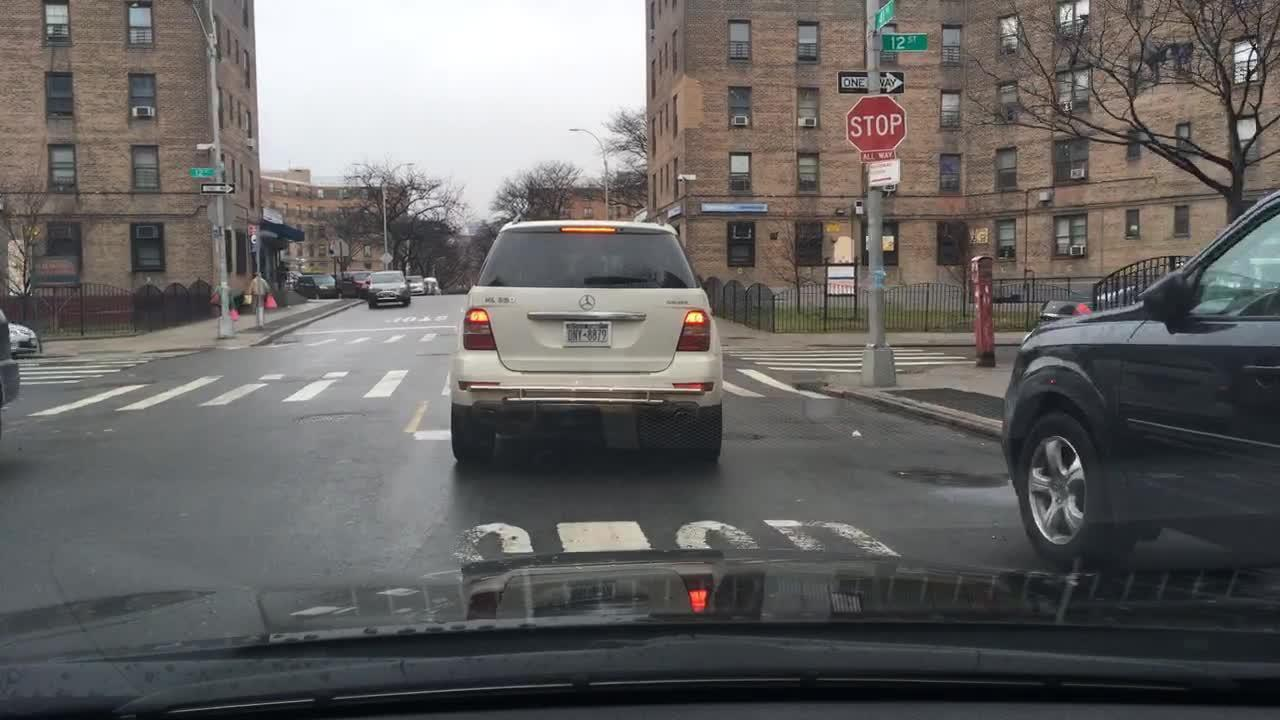Mercedes: (574, 291, 599, 315)
